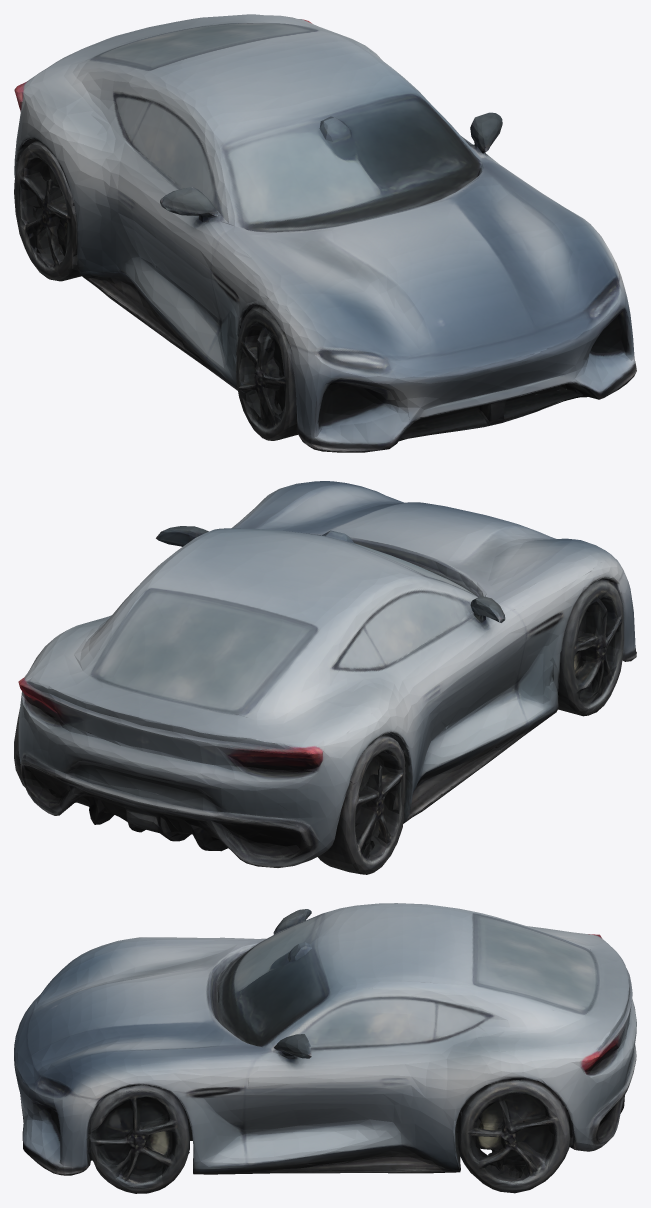
3 views of the same model, one above another, from view 1: azimuth 30°, elevation 25°; view 2: azimuth 150°, elevation 25°; view 3: azimuth 270°, elevation 25° (orthographic). The views are drawn at different scales.
Parts seen in each view (by area): view 1: world; view 2: world; view 3: world.
Part boxes in pixels (x1,y1,x2,y2): world: [14, 14, 636, 452]; world: [14, 481, 636, 874]; world: [14, 903, 636, 1193].
Bounding box in the file's own units: 0.5537 × 0.3314 × 0.9993.
Materials: 1 (1 with a texture image).
